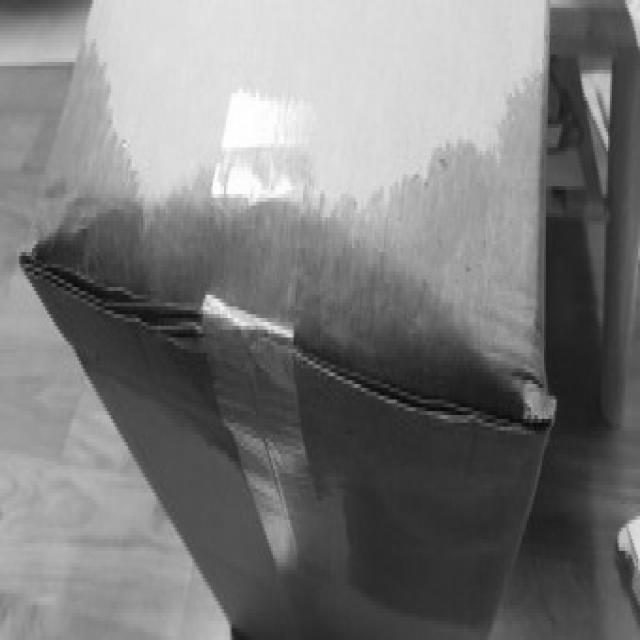hole: (29, 242, 218, 351)
wet: (28, 57, 554, 639)
